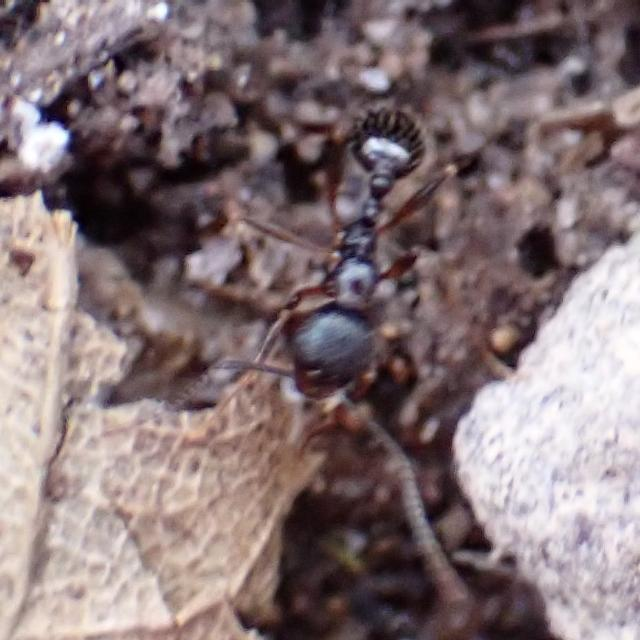Apheanogaster: (227, 70, 471, 438)
